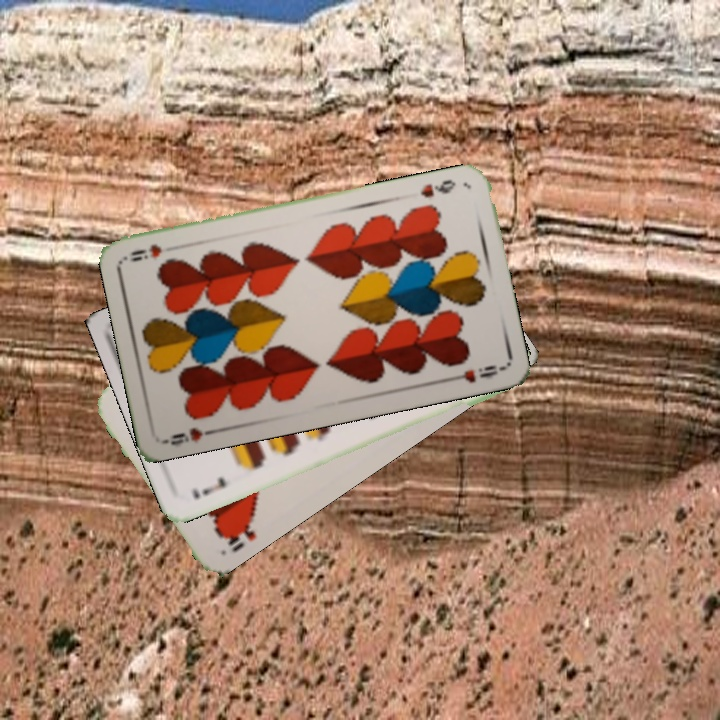E7: (188, 473, 229, 501)
H9: (161, 423, 220, 448), (416, 175, 459, 201)
HO: (216, 511, 260, 555)
